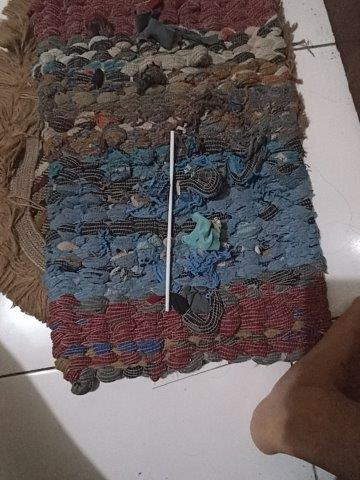sedotan: (165, 131, 174, 311)
